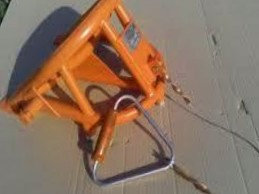chock: (0, 0, 172, 144)
